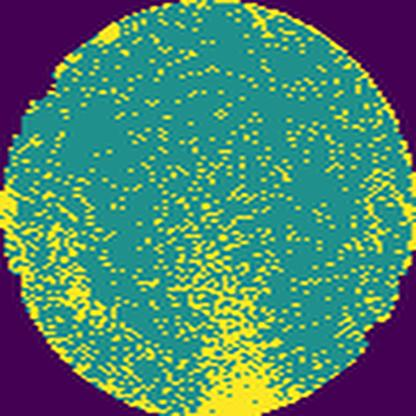Edge-Loc: (178, 315, 317, 416), (0, 184, 26, 234), (88, 20, 126, 46)
